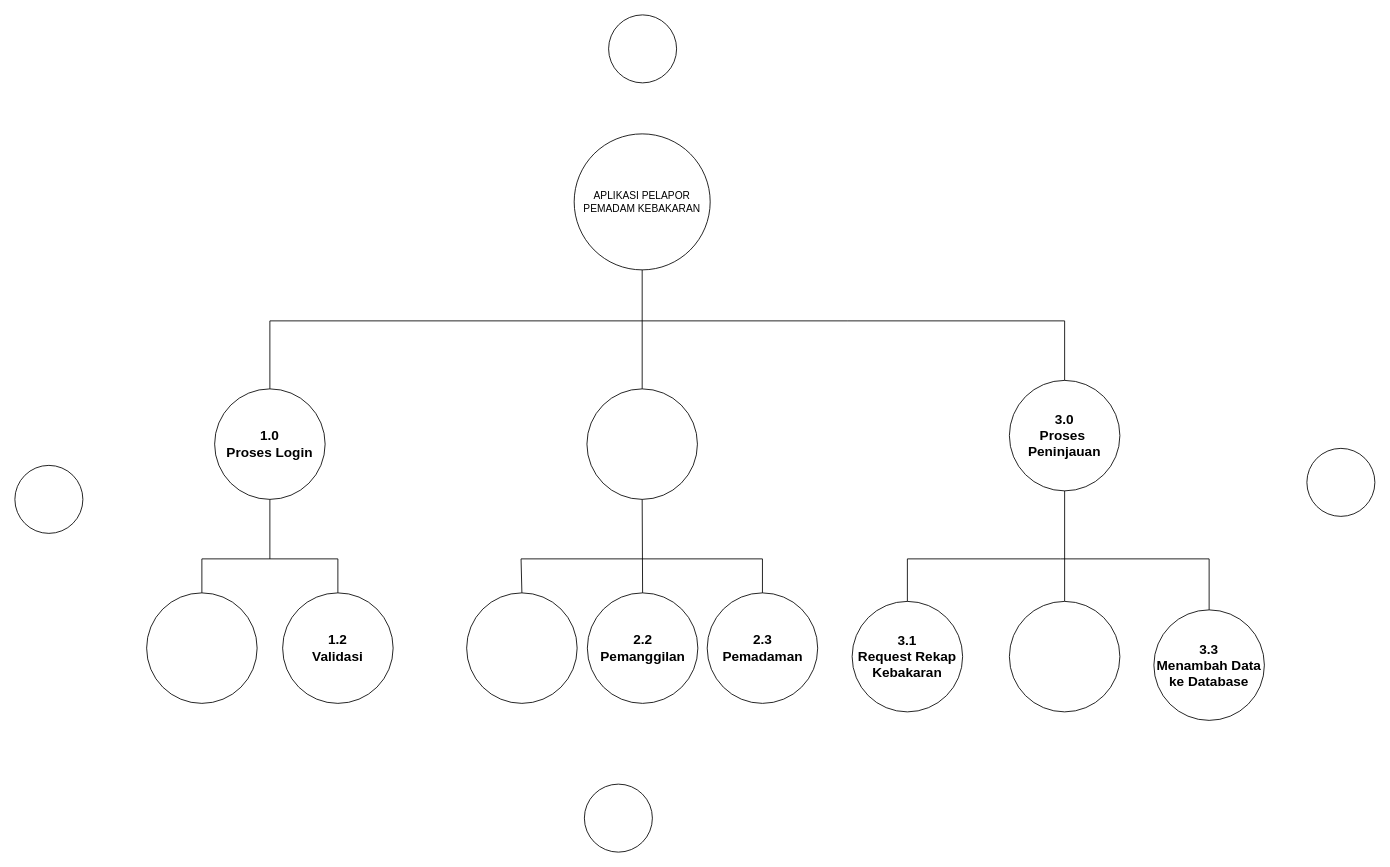
Image size: 1390x867. Some labels were removed from this diagram. The centre of each missing label's shape, as x and y in pixels:
"1.1 Memasukan dara diri" goes at point 201,647.
"2.0 Proses Pelaporan" goes at point 641,443.
"2.1 Pelaporan" goes at point 521,647.
"3.2 Pengecekan Ketersediaan rekap Data" goes at point 1064,656.
